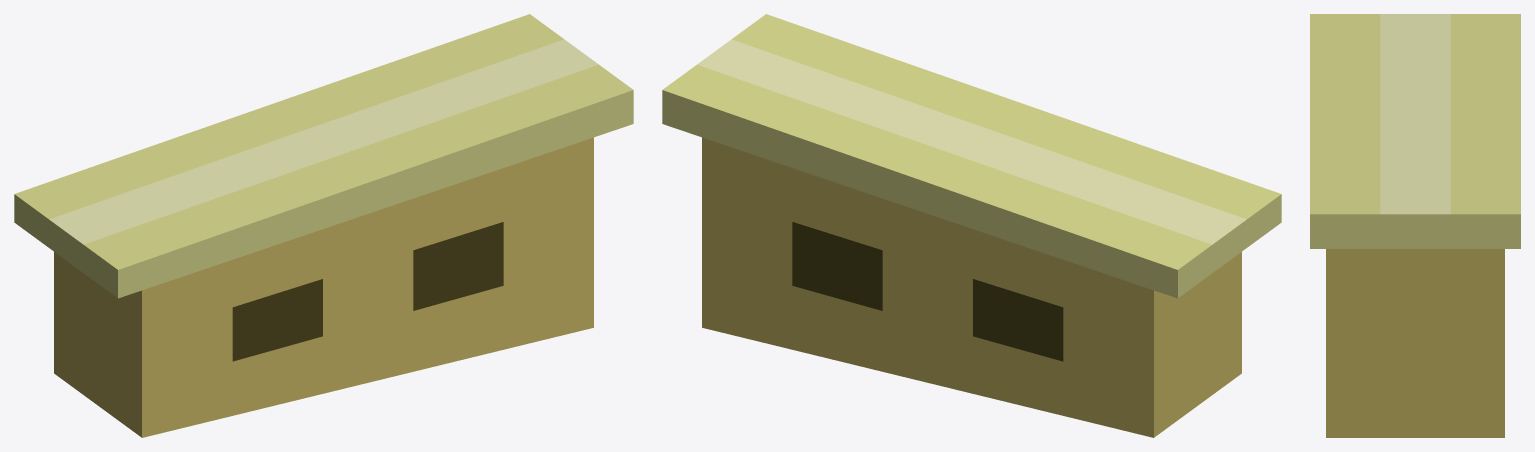
The model's file is Bld_7.fbx.
The picture shows the model from 3 angles, left to right: view 1: azimuth 30°, elevation 25°; view 2: azimuth 150°, elevation 25°; view 3: azimuth 270°, elevation 25°; orthographic projection.
Parts seen in each view (by area): view 1: Cube.014; view 2: Cube.014; view 3: Cube.014.
Part boxes in pixels (x1=…): Cube.014: x1=14, y1=14, x2=633, y2=437; Cube.014: x1=662, y1=14, x2=1281, y2=437; Cube.014: x1=1310, y1=14, x2=1520, y2=437.
Size of the model in its own units: 1507 by 658 by 525.
